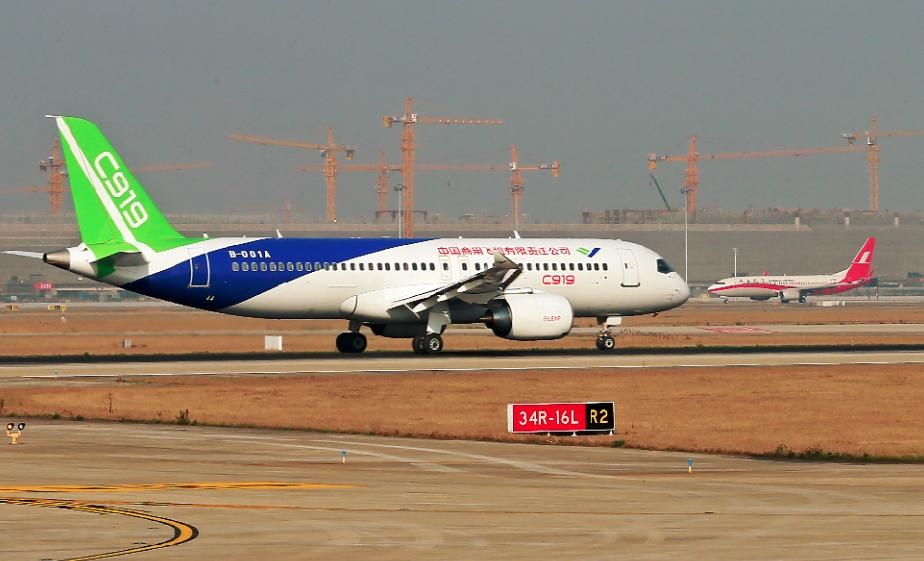airplane: (30, 110, 693, 348), (707, 233, 892, 307)
